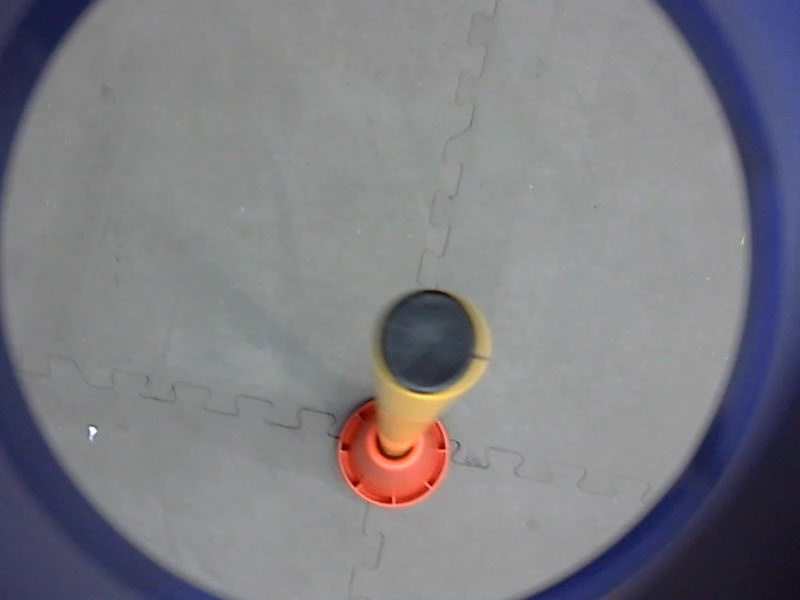tip: (370, 282, 495, 405)
